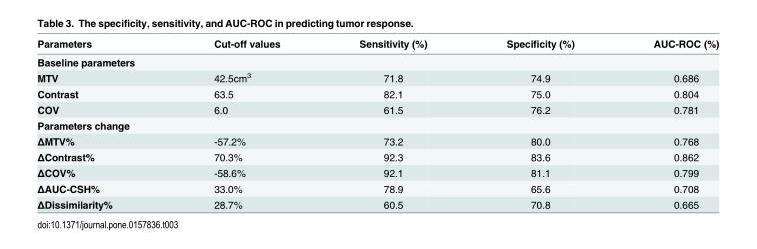table: (36, 36, 718, 209)
table column: (319, 36, 466, 209), (466, 36, 613, 209), (173, 36, 319, 209), (36, 36, 173, 209), (613, 36, 718, 209)
table column header: (36, 36, 718, 52)
table projected row header: (36, 52, 718, 69), (36, 117, 718, 132)
table row: (36, 52, 718, 69), (36, 36, 718, 52), (36, 69, 718, 85), (36, 85, 718, 101), (36, 101, 718, 117), (36, 132, 718, 148), (36, 148, 718, 164), (36, 164, 718, 180), (36, 180, 718, 196), (36, 117, 718, 132), (36, 196, 718, 209)
